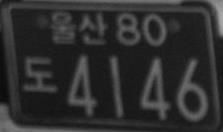0: (142, 12, 166, 46)
1: (101, 55, 131, 117)
4: (138, 56, 171, 121), (66, 54, 97, 117)
6: (175, 58, 208, 122)
8: (115, 12, 141, 45)
도: (23, 54, 57, 93)
울산_O: (51, 10, 107, 44)
